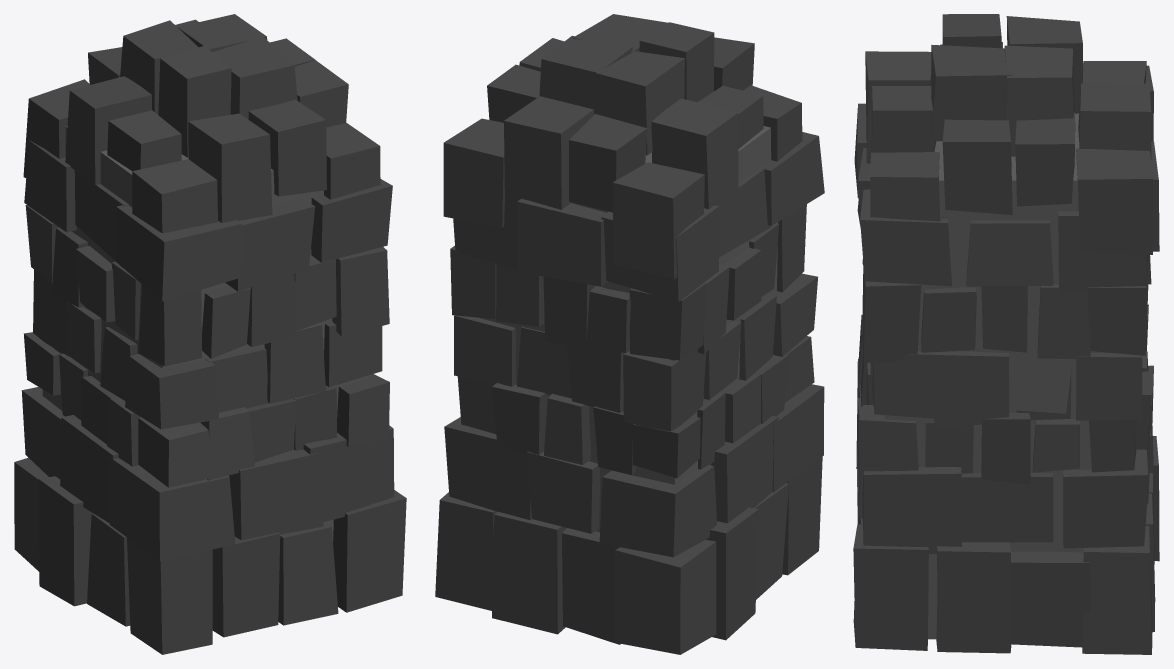
The model's file is Pillar.fbx.
3 views of the same model, side by side, from view 1: azimuth 30°, elevation 25°; view 2: azimuth 150°, elevation 25°; view 3: azimuth 270°, elevation 25° (orthographic). The views are drawn at different scales.
Parts seen in each view (by area): view 1: Column; view 2: Column; view 3: Column.
Part boxes in pixels (x1=…): Column: x1=14, y1=14, x2=406, y2=654; Column: x1=435, y1=14, x2=824, y2=654; Column: x1=853, y1=14, x2=1159, y2=654.
Size of the model in its own units: 337 by 670 by 333.
